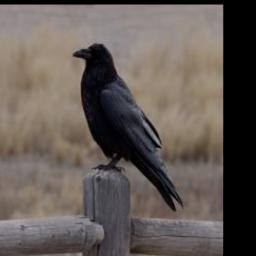Crow: (71, 40, 185, 214)
